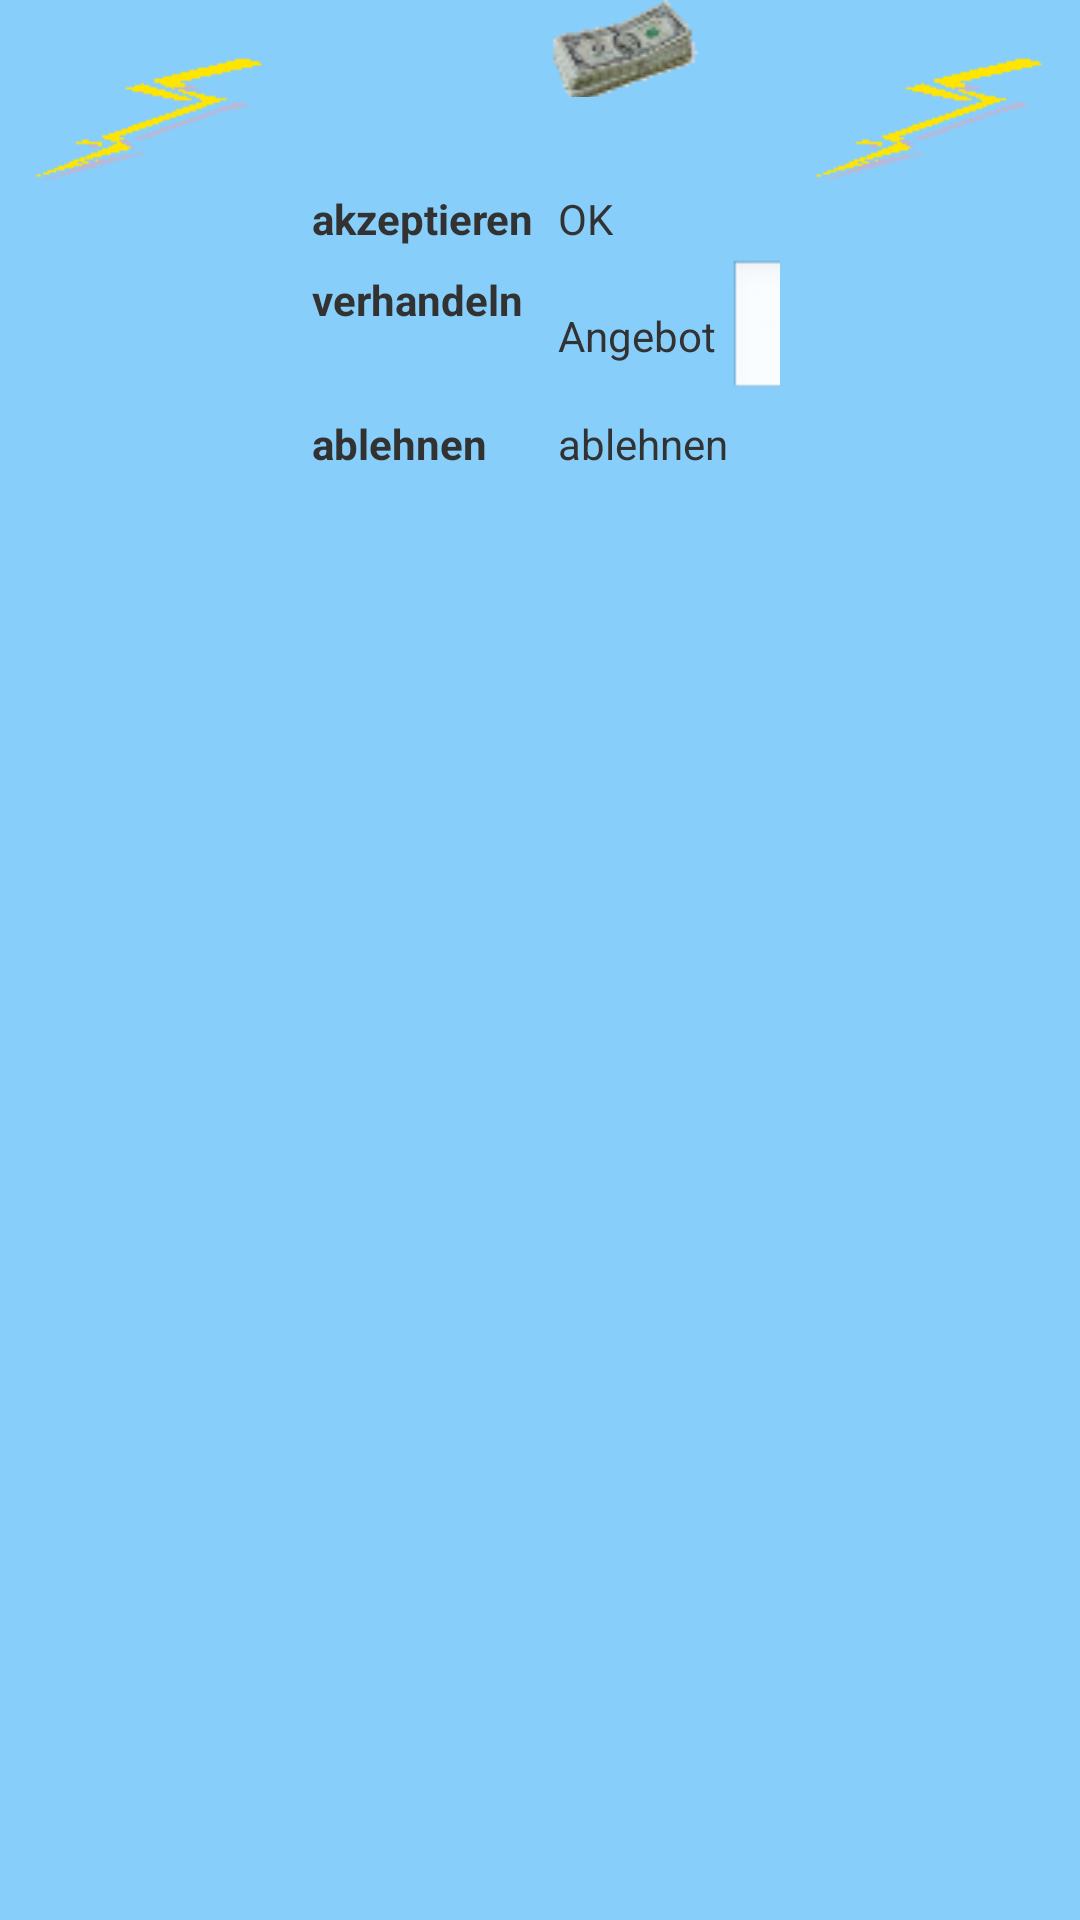

Named icons in this screenshot (1080px×1920px) and their centers, (x,y):
lightening: (149,119), (929,119)
money: (625,48)
